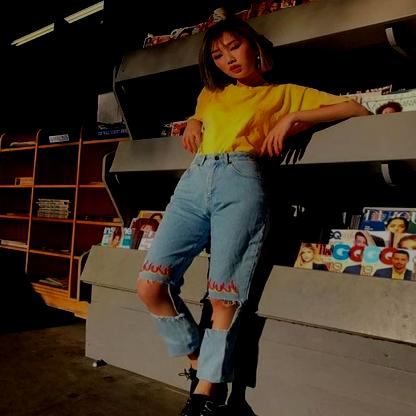dress: (195, 82, 340, 152)
